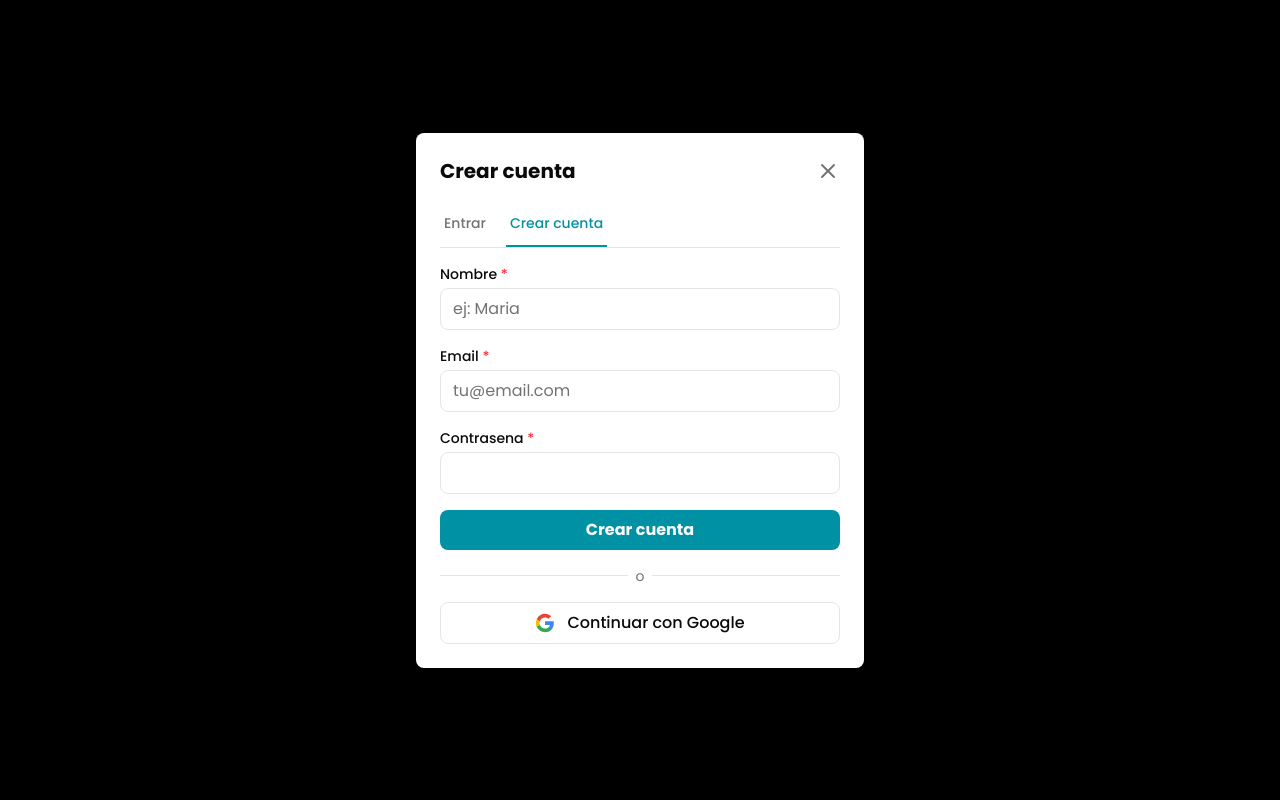
Test: AuthModal › switches to login tab when "Entrar" is clicked
Click the button "Entrar".
click(465, 224)  # box [440,200,490,246]
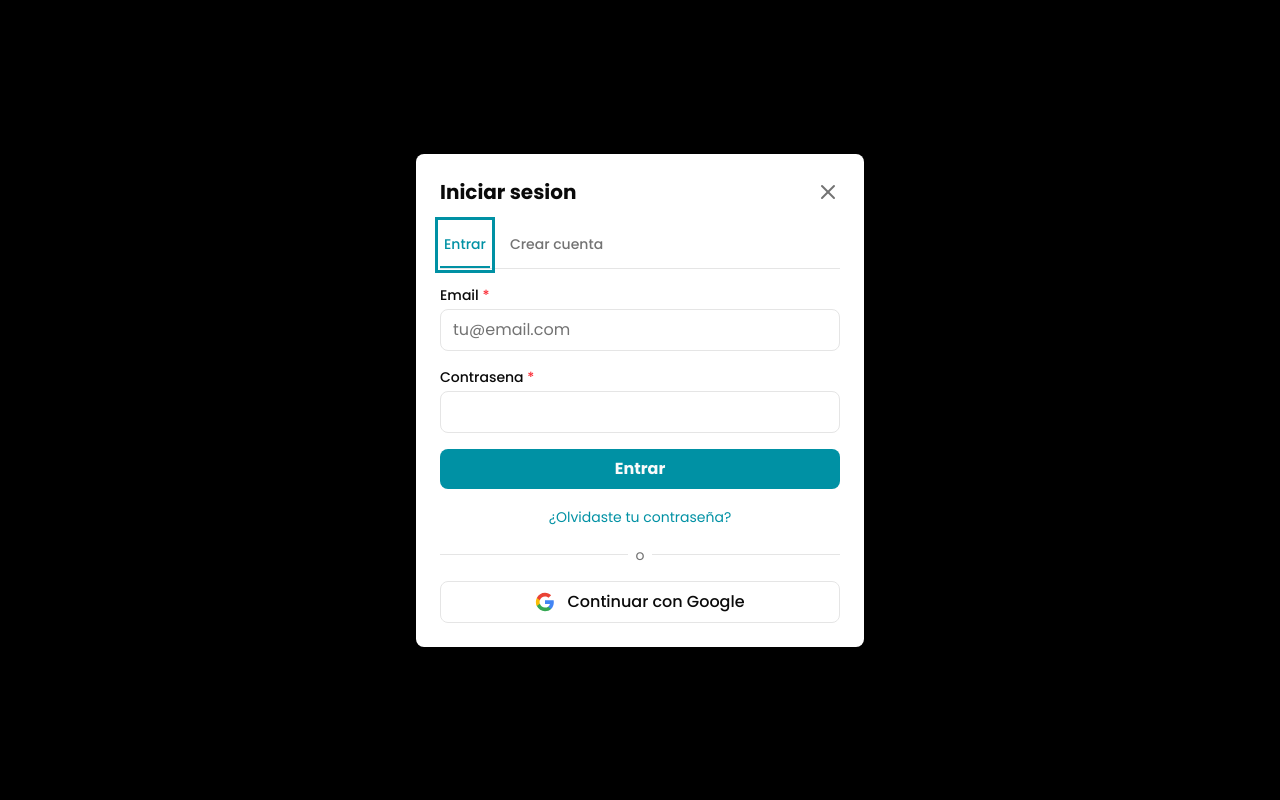
Expected: the field labelled "Email *" is shown, [440,308,840,350]
Expected: the label labelled "Nombre" is gone
